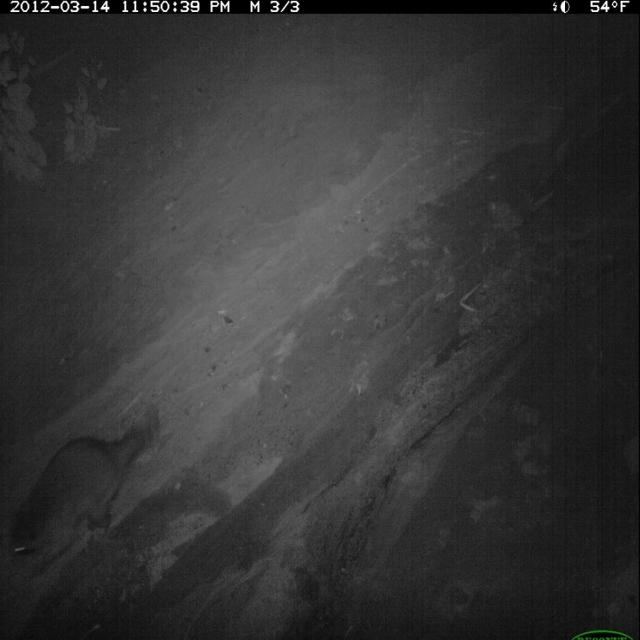raccoon: (6, 415, 158, 584)
